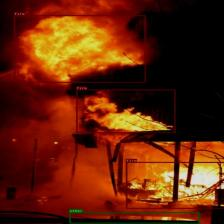fire: (14, 15, 146, 82), (125, 162, 224, 208), (76, 89, 175, 133)
